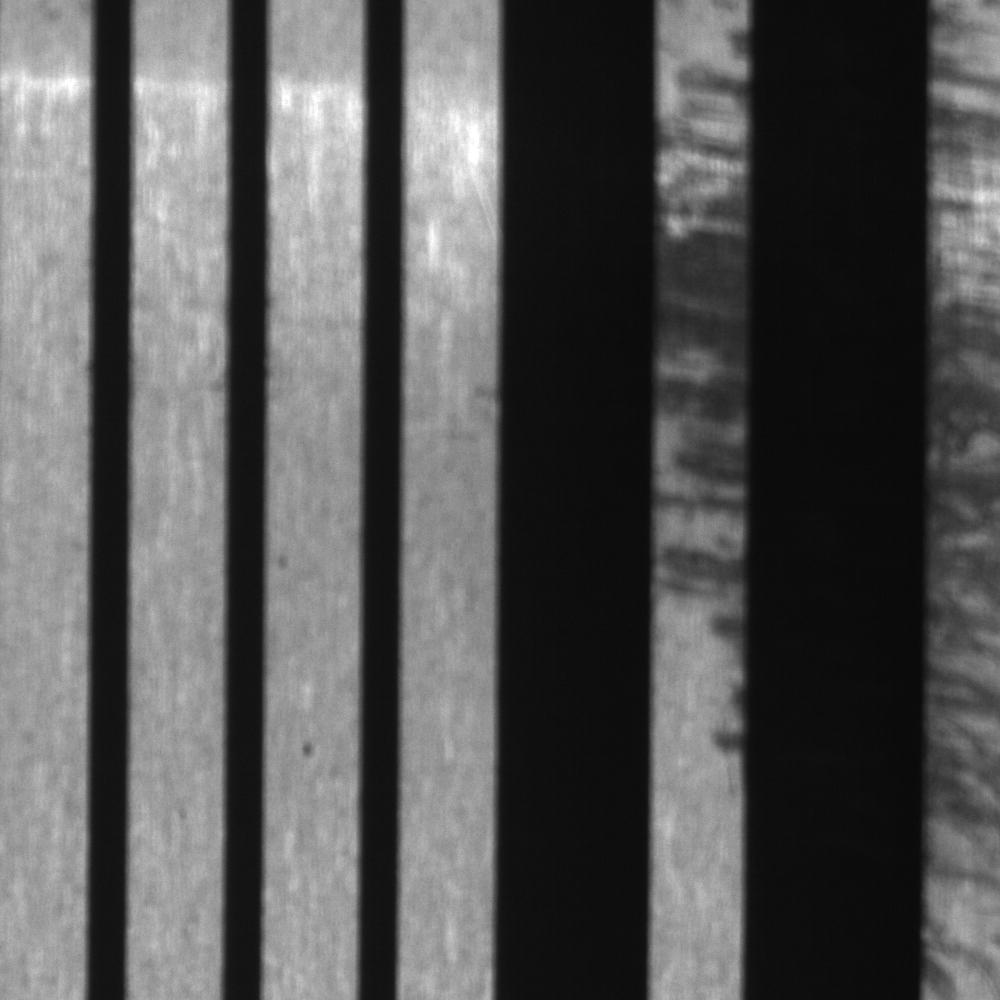Discolor: (653, 9, 751, 267), (652, 281, 750, 536), (926, 532, 1000, 828), (653, 545, 746, 755), (931, 3, 1000, 250), (930, 263, 997, 515), (922, 841, 998, 997)
Etching: (270, 538, 301, 585)
Pinhole: (285, 728, 327, 766)
